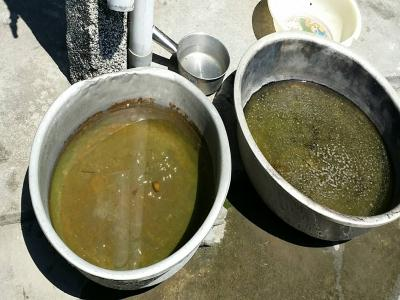bowl: (23, 65, 237, 294), (228, 28, 399, 246), (260, 1, 365, 47), (173, 33, 232, 98)
